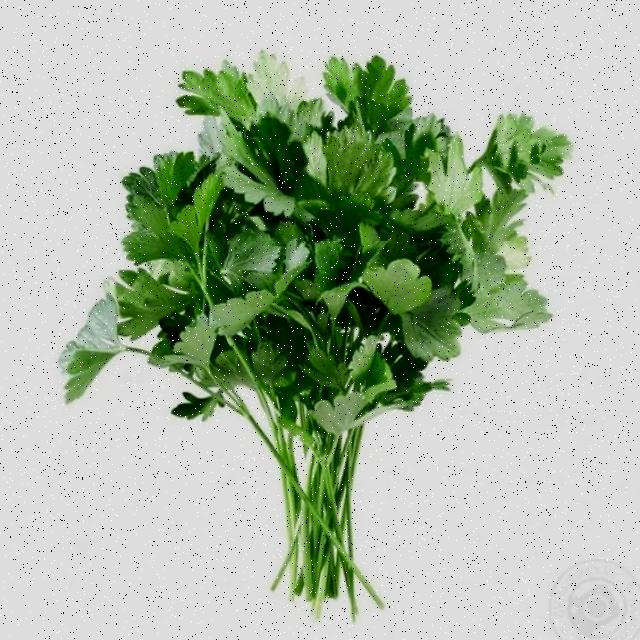Coriander: (57, 45, 589, 590)
